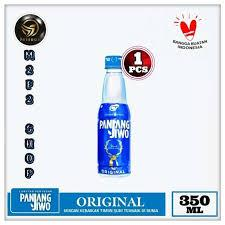BIODEGRADABLE: (92, 51, 141, 178)
